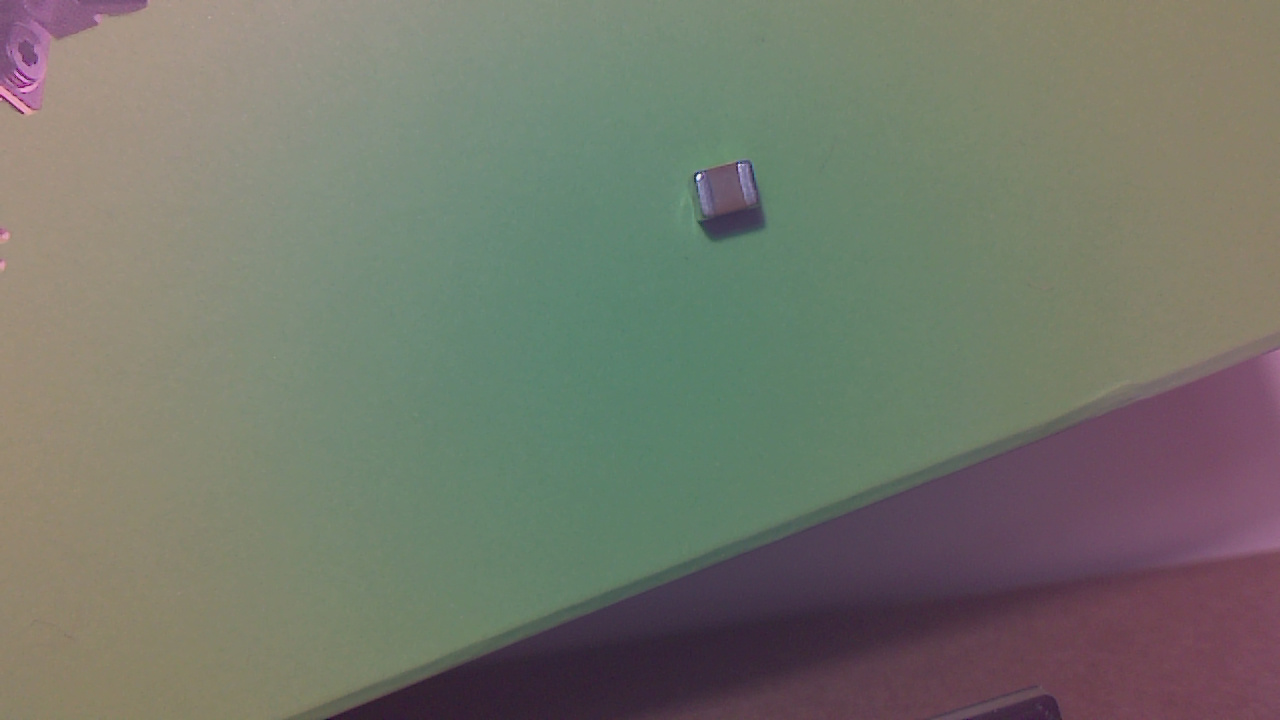Condensator: (692, 165, 769, 237)
